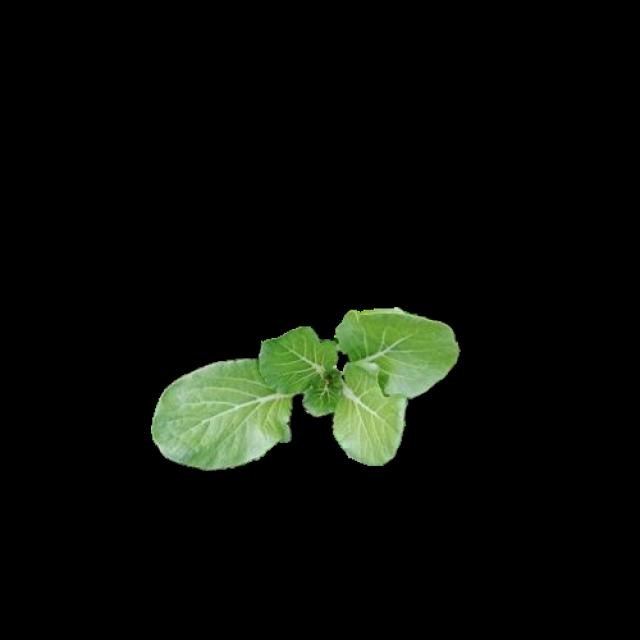healthy: (151, 306, 458, 466)
not-mature: (151, 307, 458, 467)
